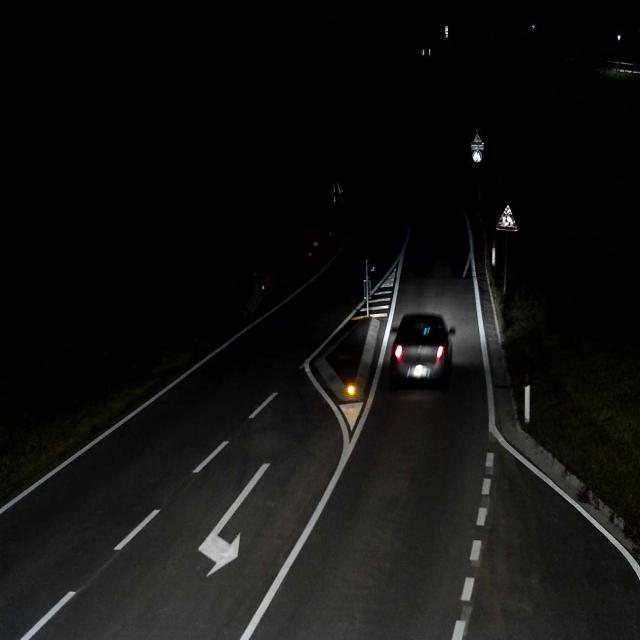car: (388, 312, 456, 388)
